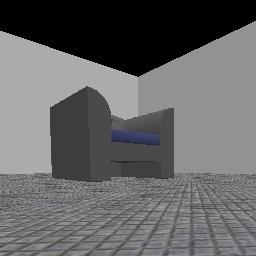fotoliu: (50, 86, 173, 181)
